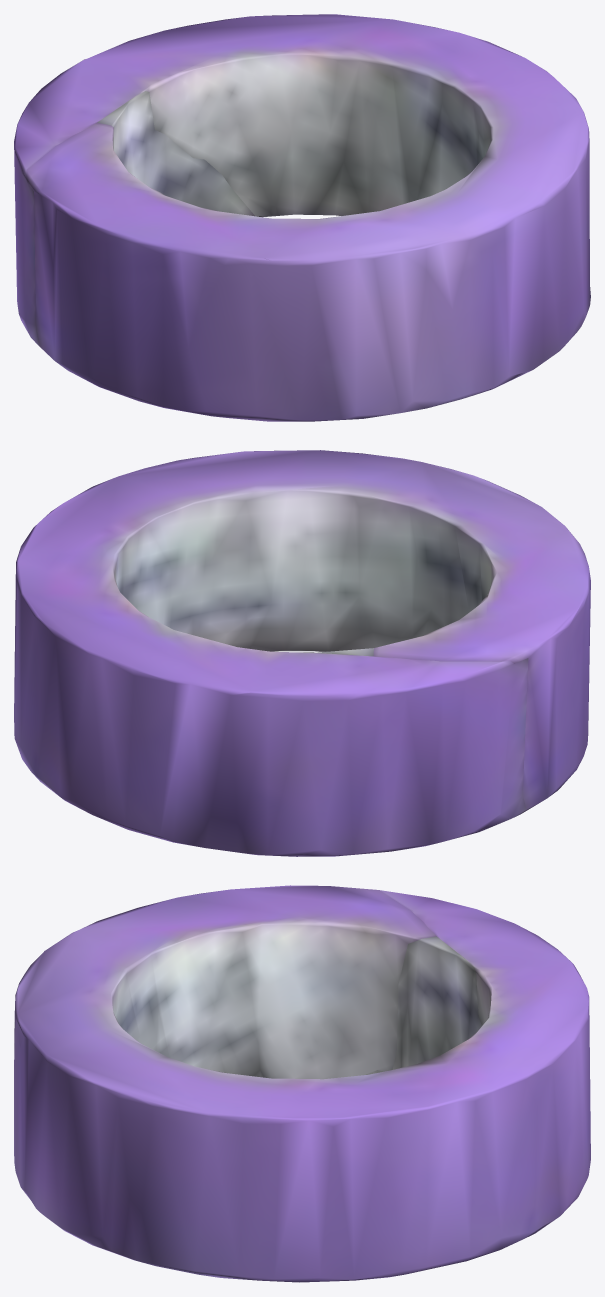
The model's file is Shurtape_30_Day_Removal_UV_Delct_15-medium.glb.
3 views of the same model, one above another, from view 1: azimuth 30°, elevation 25°; view 2: azimuth 150°, elevation 25°; view 3: azimuth 270°, elevation 25° (orthographic).
Visible parts, largest first — view 1: Shurtape_30_Day_Removal_UV_Delct_15; view 2: Shurtape_30_Day_Removal_UV_Delct_15; view 3: Shurtape_30_Day_Removal_UV_Delct_15.
Boxes of the visible parts, x1,y1,x2,y2 form: Shurtape_30_Day_Removal_UV_Delct_15: (14,14,590,421); Shurtape_30_Day_Removal_UV_Delct_15: (14,450,590,856); Shurtape_30_Day_Removal_UV_Delct_15: (14,885,590,1282).
Bounding box in the file's own units: 0.1168 × 0.0384 × 0.1168.
Materials: 1 (1 with a texture image).
